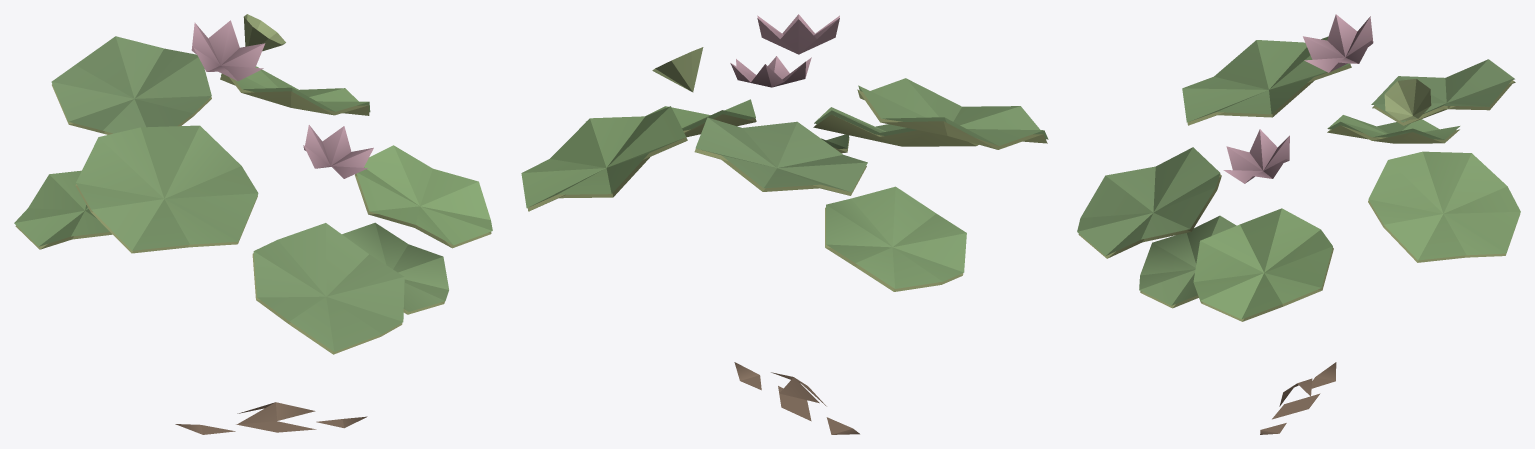
Rendered from lotus.lod.glb.
3 views of the same model, side by side, from view 1: azimuth 30°, elevation 25°; view 2: azimuth 150°, elevation 25°; view 3: azimuth 270°, elevation 25° (orthographic). The views are drawn at different scales.
Visible parts, largest first — view 1: lotus; view 2: lotus; view 3: lotus.
Part boxes in pixels (x1,y1,x2,y2): lotus: [14, 14, 492, 434]; lotus: [521, 14, 1048, 434]; lotus: [1077, 14, 1520, 434].
Bounding box in the file's own units: 2.1 × 1.93 × 2.1.
